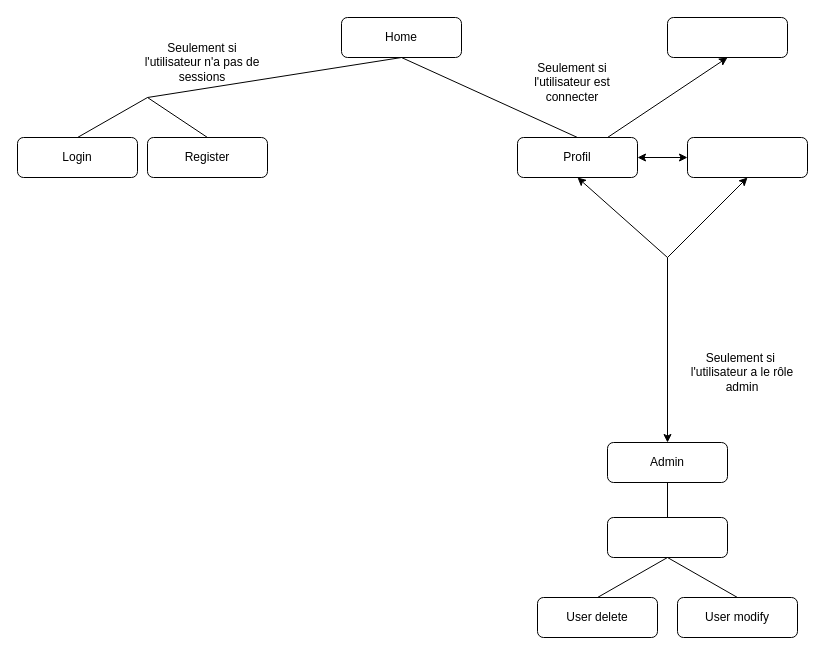
Some shapes in this 825 by 655 pixel diagram are drawn without their labels. The shapes that lost their labels are listed below. From the top down, each one's centre as x and y in pixels, then its label:
At (727,37): "Logout".
At (747,157): "user settings".
At (667,537): "User list".
